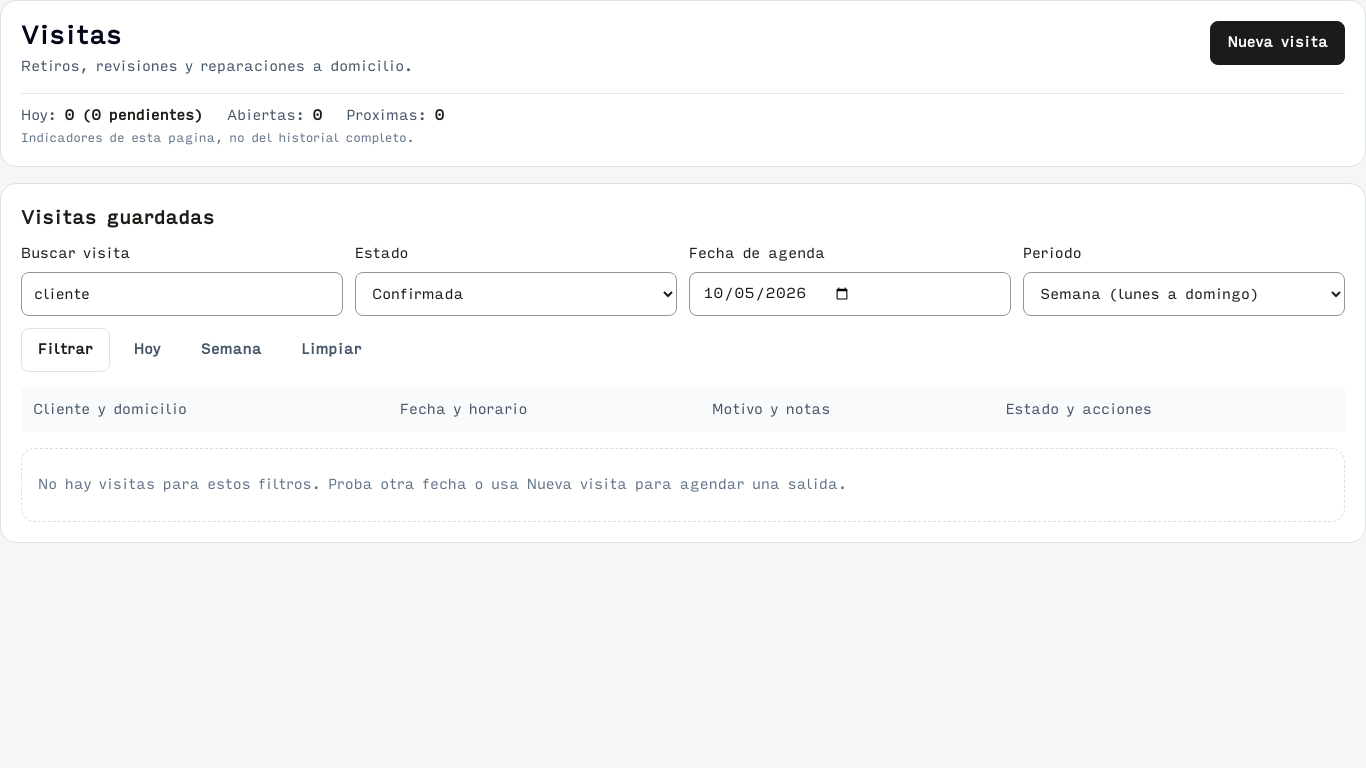
Test: one visit workflow › allows closing a recovered-draft prompt without discarding it
The image size is (1366, 768).
Click the button "Nueva visita": (1278, 43) [1210, 21, 1345, 65]
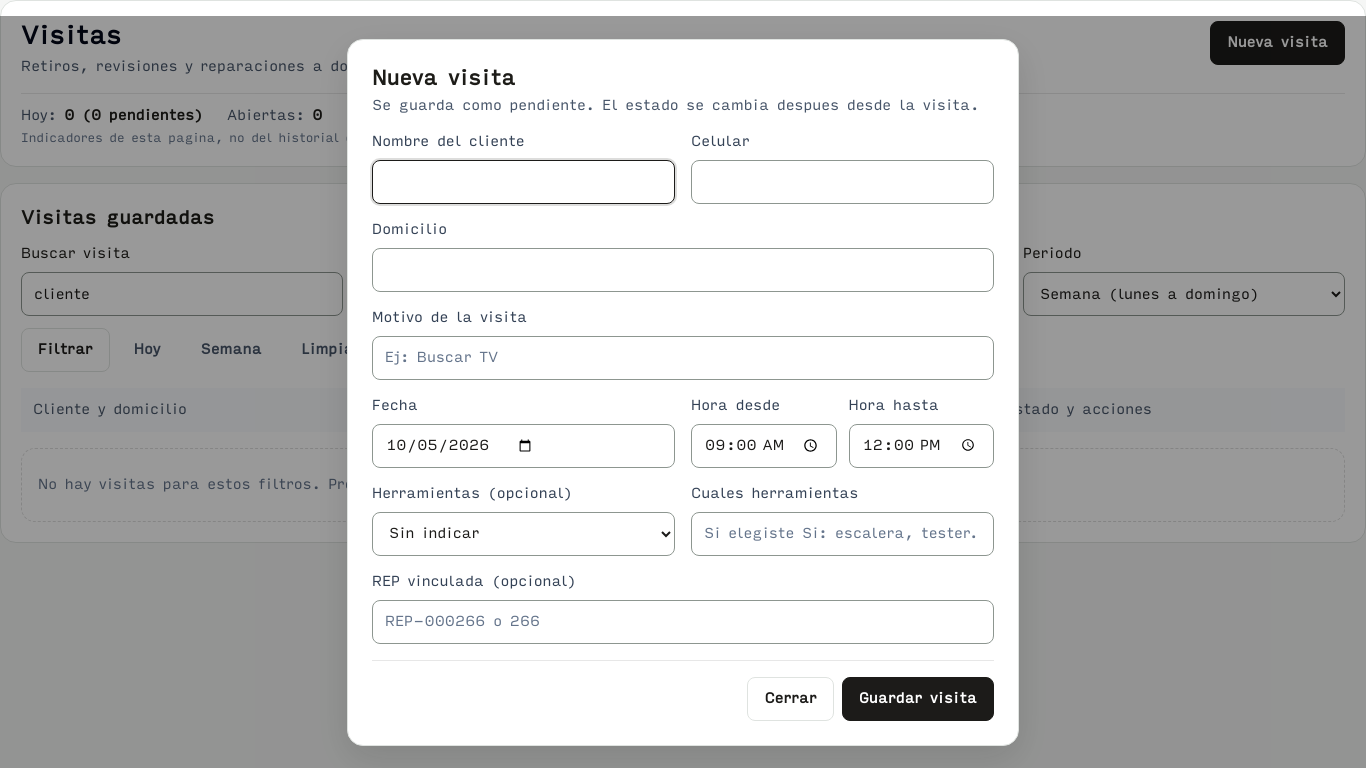
In the field labelled "Nombre del cliente": (524, 182) [372, 160, 675, 204], type "Pendiente"
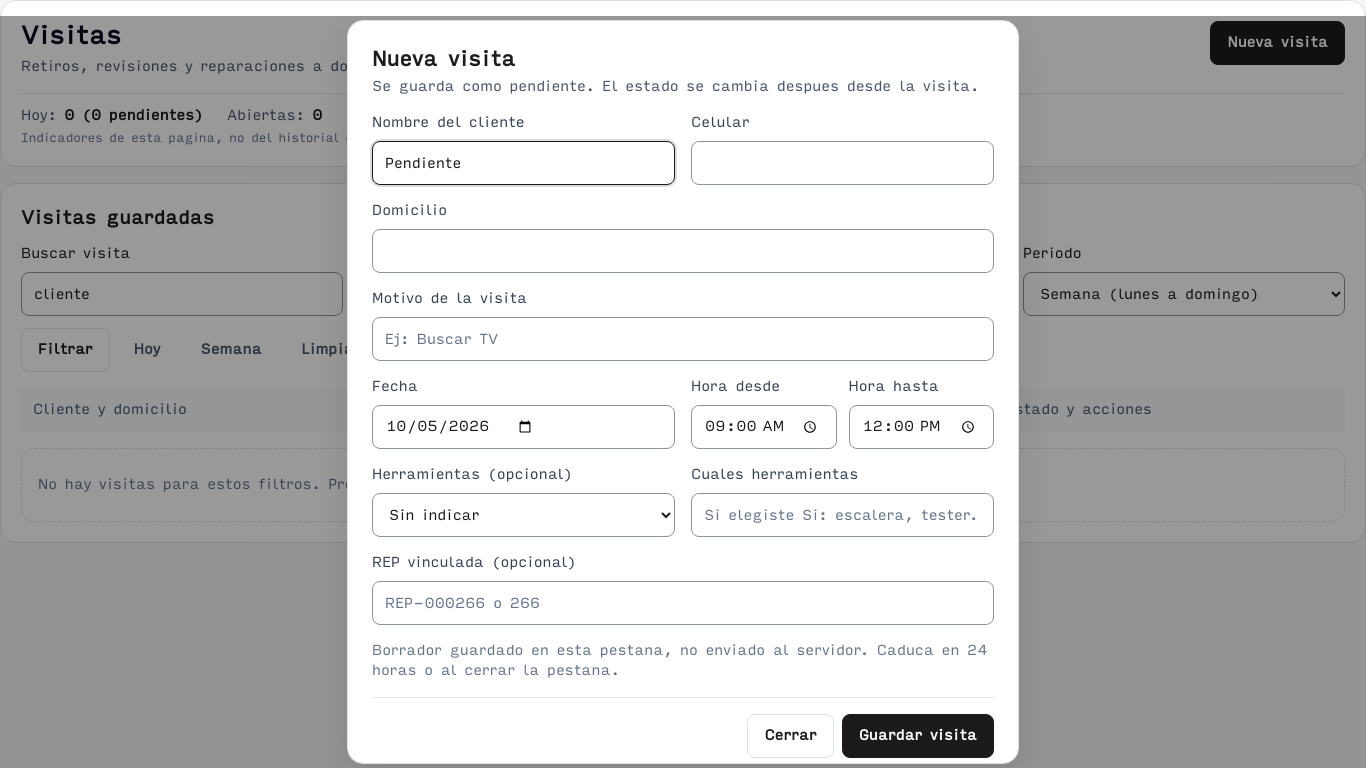
Press Escape
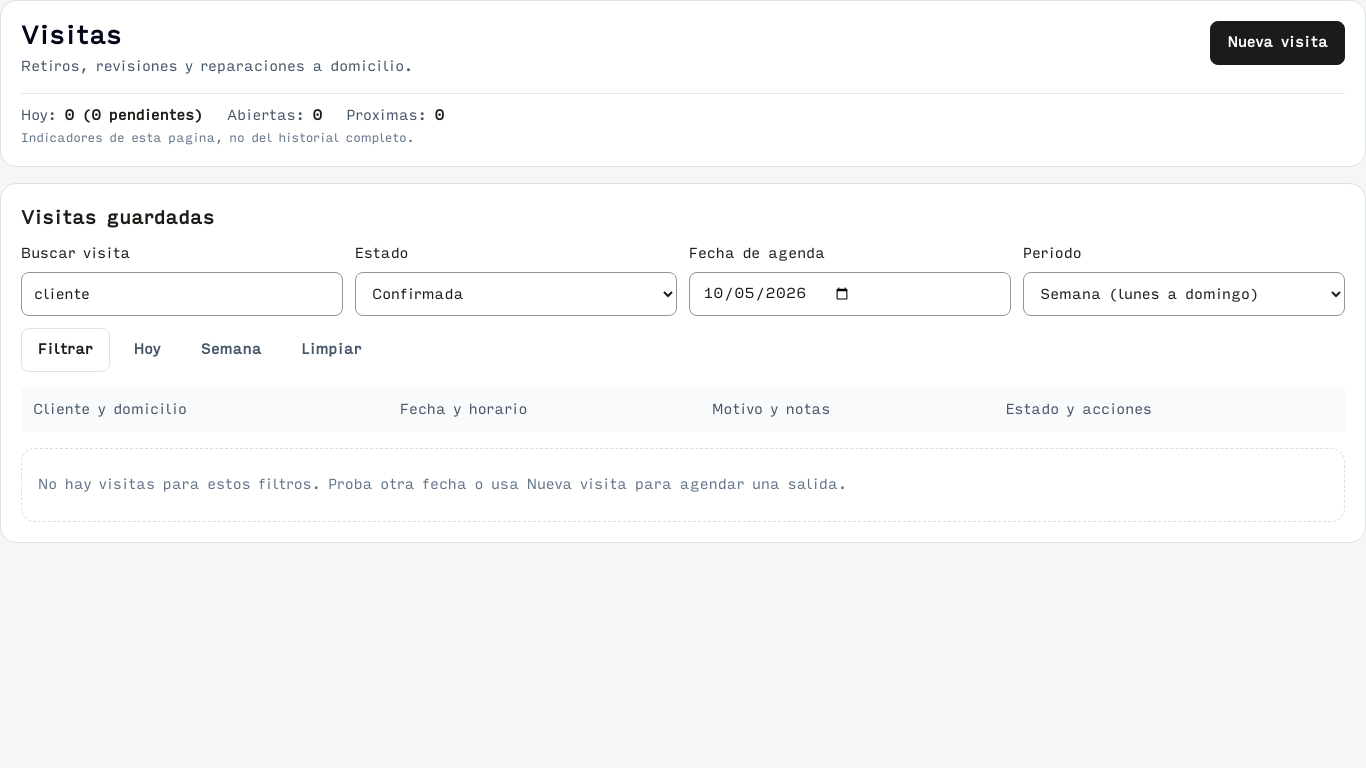
Click the button "Nueva visita": (1278, 43) [1210, 21, 1345, 65]
(page scrolled)
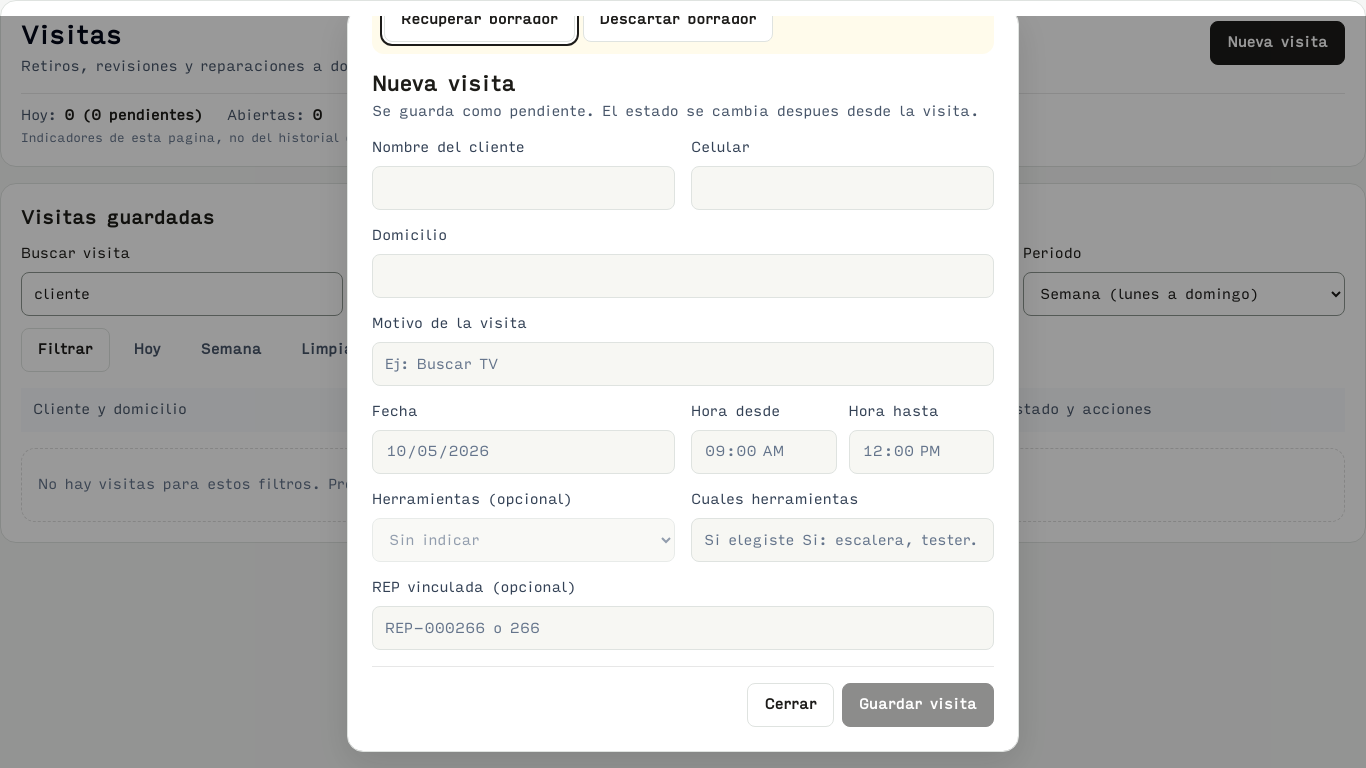
Click the button "Cerrar": (790, 705) [747, 683, 834, 727]
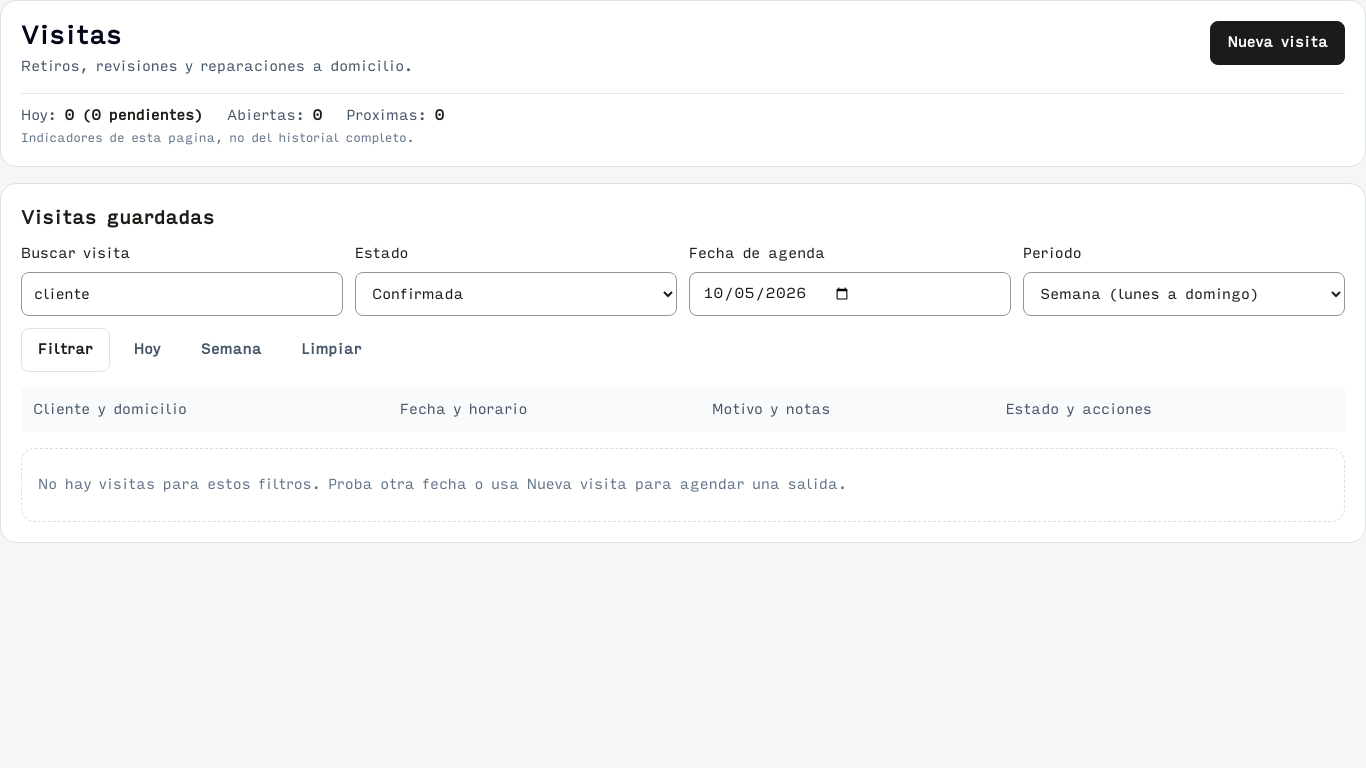
Check: the dialog is gone
Click the button "Nueva visita": (1278, 43) [1210, 21, 1345, 65]
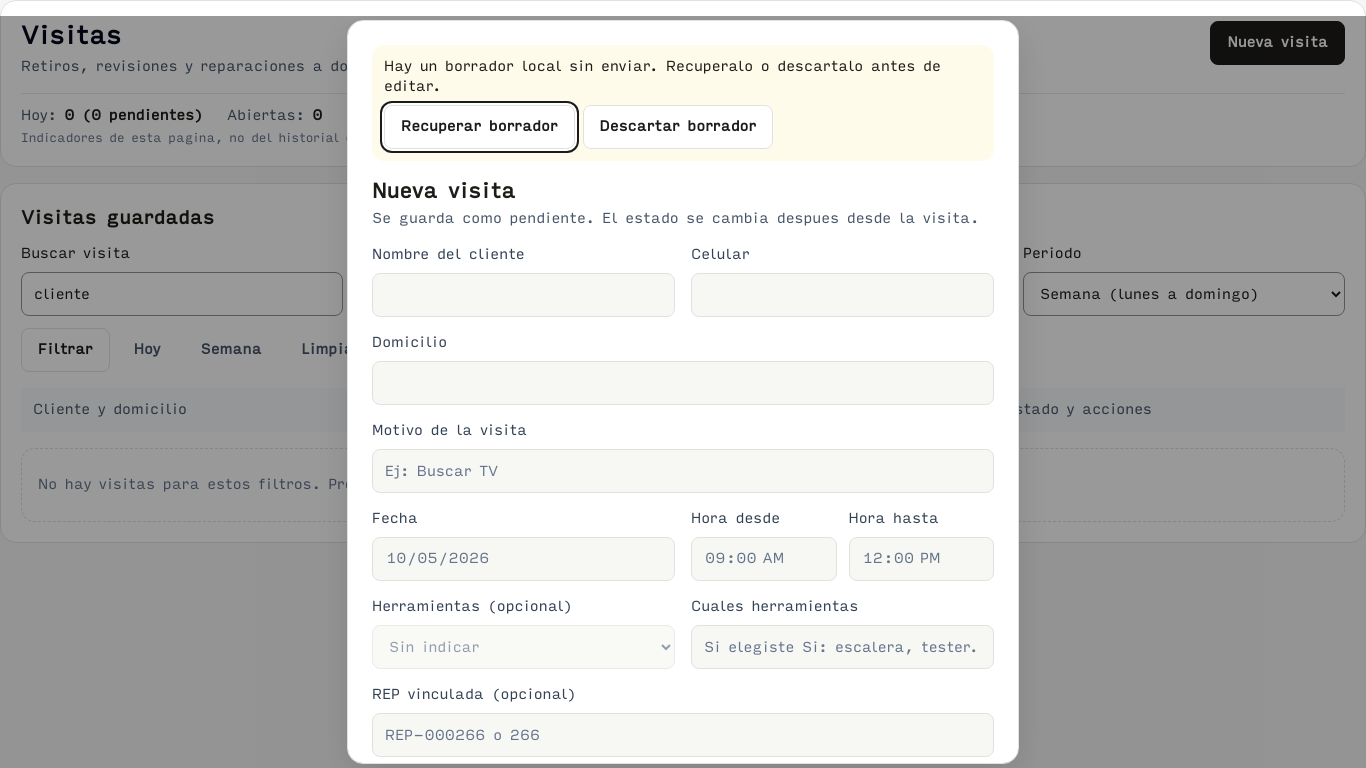
Check: the button "Recuperar borrador" is shown, box [384, 105, 574, 149]
